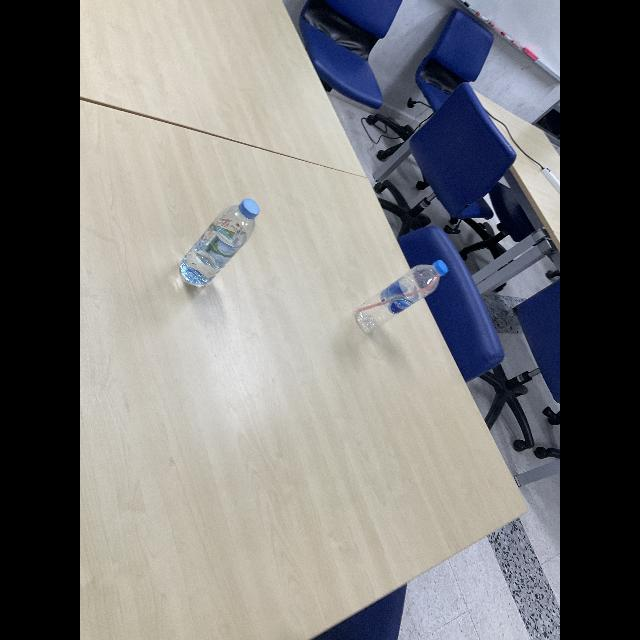plastic_bottle: (178, 196, 260, 288), (354, 259, 448, 337)
plastic_bottle_cap: (238, 197, 260, 219), (434, 259, 448, 277)
straw: (356, 273, 442, 313)
